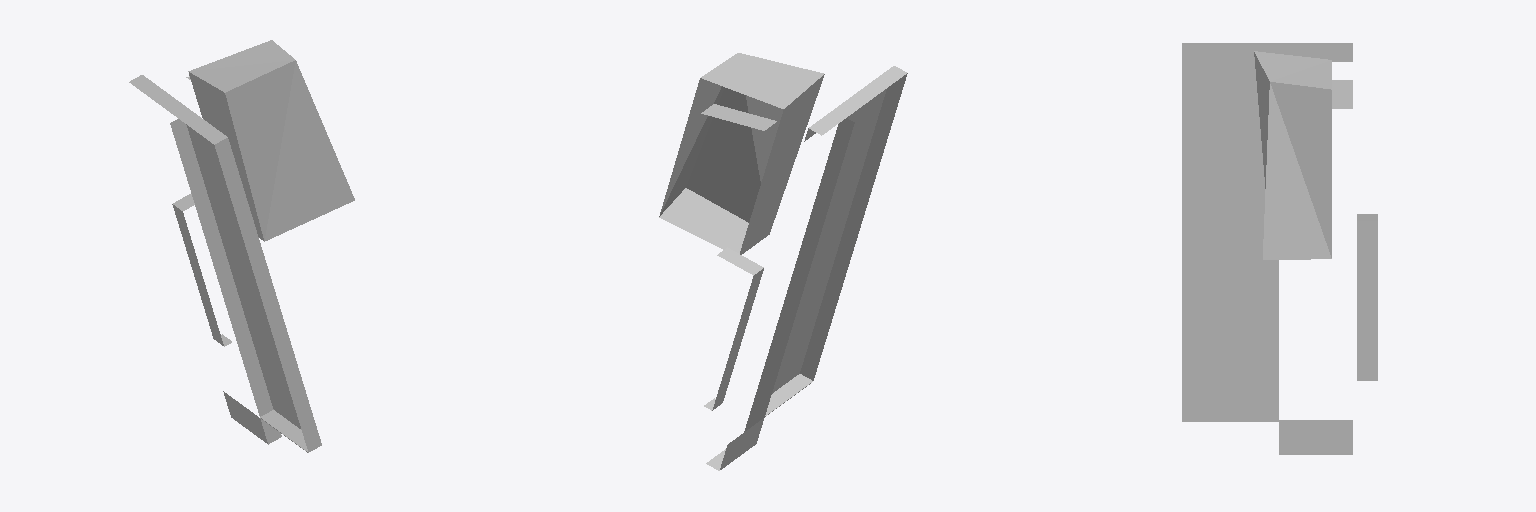
The model's file is opt3-1Glass.obj.
3 renders of one model, left to right at view 1: azimuth 30°, elevation 25°; view 2: azimuth 150°, elevation 25°; view 3: azimuth 270°, elevation 25°, orthographic.
Bounding box in the file's own units: 127 × 256 × 119.